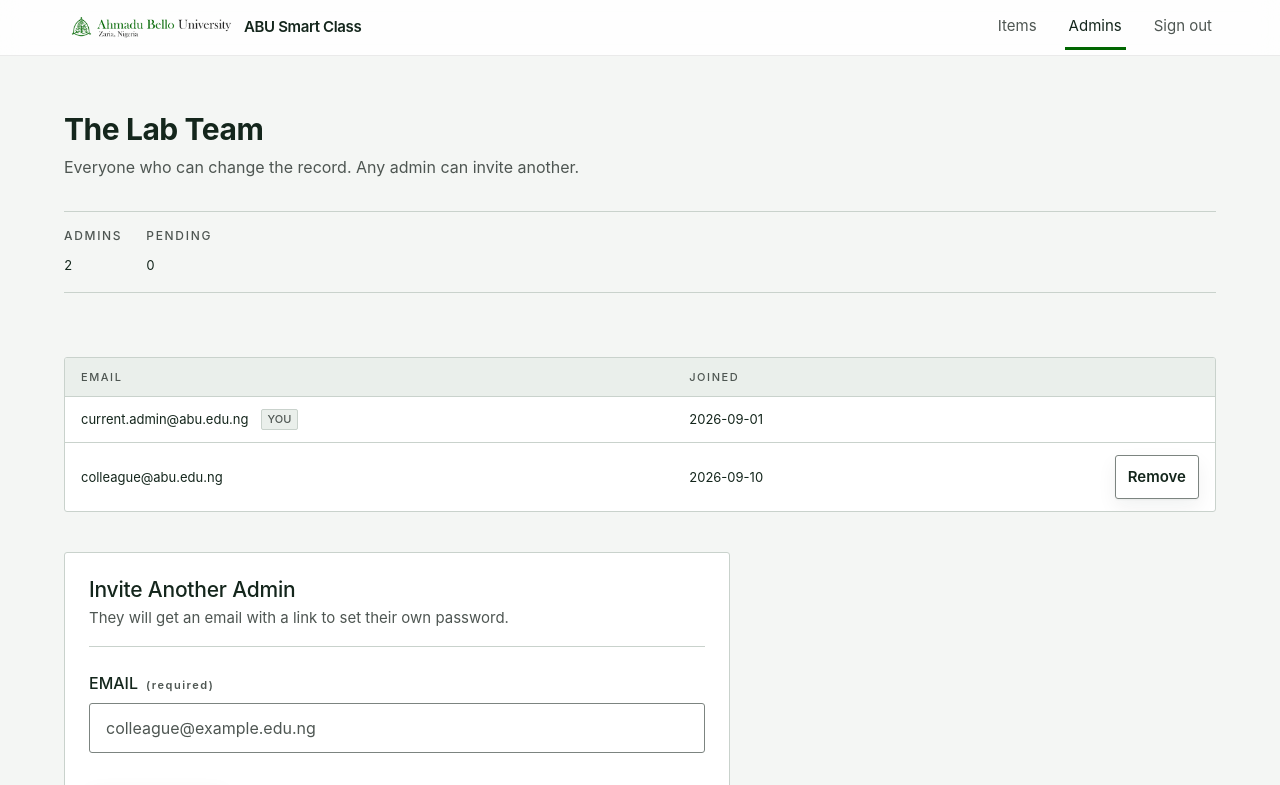
Test case: S-05 Challenger Suite — M2 Pre-Agreed Seams › Seam 1: S-008 Admin Team Management & Invites (app/admin/admins/page.tsx & lib/admin-api.ts) › backend 409 last-admin response displays inline error banner and retains admin in roster
Click the button with aria-label "Remove colleague@abu.edu.ng". click: (1157, 477)
box: [1115, 455, 1199, 499]
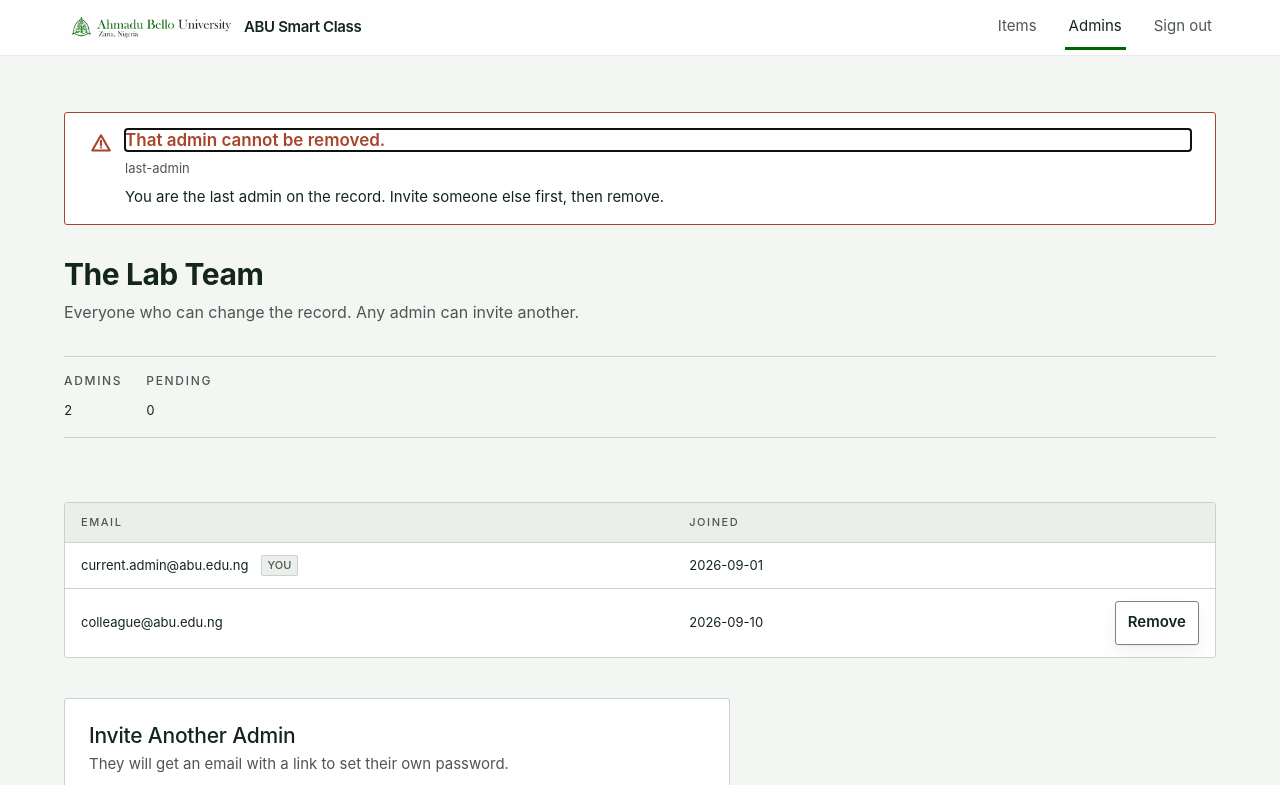
Expected: the text "colleague@abu.edu.ng" is shown, [81, 613, 223, 632]
Expected: the heading "That admin cannot be removed." is shown, [125, 130, 385, 150]
Expected: the text "last-admin" is shown, [125, 160, 190, 176]
